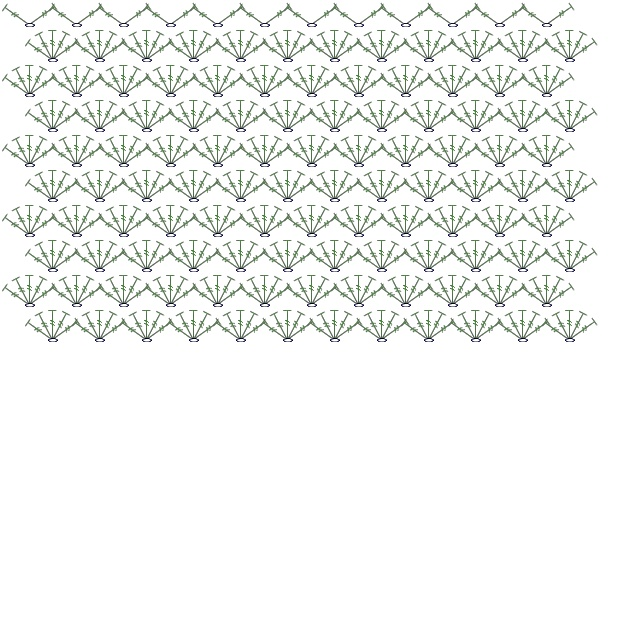chain: (24, 21, 36, 29), (71, 21, 83, 29), (118, 21, 130, 29), (165, 21, 177, 29), (212, 21, 224, 29), (259, 21, 271, 29), (306, 21, 318, 29), (353, 21, 365, 29), (400, 21, 412, 29), (447, 21, 459, 29), (494, 21, 506, 29), (541, 21, 553, 29), (47, 56, 59, 64), (94, 56, 106, 64), (141, 56, 153, 64), (188, 56, 200, 64), (235, 56, 247, 64), (282, 56, 294, 64), (329, 56, 341, 64), (376, 56, 388, 64), (423, 56, 435, 64), (470, 56, 482, 64), (517, 56, 529, 64), (564, 56, 576, 64), (24, 91, 36, 99), (71, 91, 83, 99), (118, 91, 130, 99), (165, 91, 177, 99), (212, 91, 224, 99), (259, 91, 271, 99), (306, 91, 318, 99), (353, 91, 365, 99), (400, 91, 412, 99), (447, 91, 459, 99), (494, 91, 506, 99), (541, 91, 553, 99), (47, 126, 59, 134), (94, 126, 106, 134), (141, 126, 153, 134), (188, 126, 200, 134), (235, 126, 247, 134), (282, 126, 294, 134), (329, 126, 341, 134), (376, 126, 388, 134), (423, 126, 435, 134), (470, 126, 482, 134), (517, 126, 529, 134), (564, 126, 576, 134), (24, 161, 36, 169), (71, 161, 83, 169), (118, 161, 130, 169), (165, 161, 177, 169), (212, 161, 224, 169), (259, 161, 271, 169), (306, 161, 318, 169), (353, 161, 365, 169), (400, 161, 412, 169), (447, 161, 459, 169), (494, 161, 506, 169), (541, 161, 553, 169), (47, 196, 59, 204), (94, 196, 106, 204), (141, 196, 153, 204), (188, 196, 200, 204), (235, 196, 247, 204), (282, 196, 294, 204), (329, 196, 341, 204), (376, 196, 388, 204), (423, 196, 435, 204), (470, 196, 482, 204), (517, 196, 529, 204), (564, 196, 576, 204), (24, 231, 36, 239), (71, 231, 83, 239), (118, 231, 130, 239), (165, 231, 177, 239), (212, 231, 224, 239), (259, 231, 271, 239), (306, 231, 318, 239), (353, 231, 365, 239), (400, 231, 412, 239), (447, 231, 459, 239), (494, 231, 506, 239), (541, 231, 553, 239), (47, 266, 59, 274), (94, 266, 106, 274), (141, 266, 153, 274), (188, 266, 200, 274), (235, 266, 247, 274), (282, 266, 294, 274), (329, 266, 341, 274), (376, 266, 388, 274), (423, 266, 435, 274), (470, 266, 482, 274), (517, 266, 529, 274), (564, 266, 576, 274), (24, 301, 36, 309), (71, 301, 83, 309), (118, 301, 130, 309), (165, 301, 177, 309), (212, 301, 224, 309), (259, 301, 271, 309), (306, 301, 318, 309), (353, 301, 365, 309), (400, 301, 412, 309), (447, 301, 459, 309), (494, 301, 506, 309), (541, 301, 553, 309), (47, 336, 59, 344), (94, 336, 106, 344), (141, 336, 153, 344), (188, 336, 200, 344), (235, 336, 247, 344), (282, 336, 294, 344), (329, 336, 341, 344), (376, 336, 388, 344), (423, 336, 435, 344), (470, 336, 482, 344), (517, 336, 529, 344), (564, 336, 576, 344)
fan: (2, 3, 33, 29), (27, 3, 58, 29), (49, 3, 80, 29), (74, 3, 105, 29), (96, 3, 127, 29), (121, 3, 152, 29), (143, 3, 174, 29), (168, 3, 199, 29), (190, 3, 221, 29), (215, 3, 246, 29), (237, 3, 268, 29), (262, 3, 293, 29), (284, 3, 315, 29), (309, 3, 340, 29), (331, 3, 362, 29), (356, 3, 387, 29), (378, 3, 409, 29), (403, 3, 434, 29), (425, 3, 456, 29), (450, 3, 481, 29), (472, 3, 503, 29), (497, 3, 528, 29), (519, 3, 550, 29), (544, 3, 575, 29), (25, 38, 56, 64), (50, 38, 81, 64), (72, 38, 103, 64), (97, 38, 128, 64), (119, 38, 150, 64), (144, 38, 175, 64), (166, 38, 197, 64), (191, 38, 222, 64), (213, 38, 244, 64), (238, 38, 269, 64), (260, 38, 291, 64), (285, 38, 316, 64), (307, 38, 338, 64), (332, 38, 363, 64), (354, 38, 385, 64), (379, 38, 410, 64), (401, 38, 432, 64), (426, 38, 457, 64), (448, 38, 479, 64), (473, 38, 504, 64), (495, 38, 526, 64), (520, 38, 551, 64), (542, 38, 573, 64), (567, 38, 598, 64), (2, 73, 33, 99), (27, 73, 58, 99), (49, 73, 80, 99), (74, 73, 105, 99), (96, 73, 127, 99), (121, 73, 152, 99), (143, 73, 174, 99), (168, 73, 199, 99), (190, 73, 221, 99), (215, 73, 246, 99), (237, 73, 268, 99), (262, 73, 293, 99), (284, 73, 315, 99), (309, 73, 340, 99), (331, 73, 362, 99), (356, 73, 387, 99), (378, 73, 409, 99), (403, 73, 434, 99), (425, 73, 456, 99), (450, 73, 481, 99), (472, 73, 503, 99), (497, 73, 528, 99), (519, 73, 550, 99), (544, 73, 575, 99), (25, 108, 56, 134), (50, 108, 81, 134), (72, 108, 103, 134), (97, 108, 128, 134), (119, 108, 150, 134), (144, 108, 175, 134), (166, 108, 197, 134), (191, 108, 222, 134), (213, 108, 244, 134), (238, 108, 269, 134), (260, 108, 291, 134), (285, 108, 316, 134), (307, 108, 338, 134), (332, 108, 363, 134), (354, 108, 385, 134), (379, 108, 410, 134), (401, 108, 432, 134), (426, 108, 457, 134), (448, 108, 479, 134), (473, 108, 504, 134), (495, 108, 526, 134), (520, 108, 551, 134), (542, 108, 573, 134), (567, 108, 598, 134), (2, 143, 33, 169), (27, 143, 58, 169), (49, 143, 80, 169), (74, 143, 105, 169), (96, 143, 127, 169), (121, 143, 152, 169), (143, 143, 174, 169), (168, 143, 199, 169), (190, 143, 221, 169), (215, 143, 246, 169), (237, 143, 268, 169), (262, 143, 293, 169), (284, 143, 315, 169), (309, 143, 340, 169), (331, 143, 362, 169), (356, 143, 387, 169), (378, 143, 409, 169), (403, 143, 434, 169), (425, 143, 456, 169), (450, 143, 481, 169), (472, 143, 503, 169), (497, 143, 528, 169), (519, 143, 550, 169), (544, 143, 575, 169), (25, 178, 56, 204), (50, 178, 81, 204), (72, 178, 103, 204), (97, 178, 128, 204), (119, 178, 150, 204), (144, 178, 175, 204), (166, 178, 197, 204), (191, 178, 222, 204), (213, 178, 244, 204), (238, 178, 269, 204), (260, 178, 291, 204), (285, 178, 316, 204), (307, 178, 338, 204), (332, 178, 363, 204), (354, 178, 385, 204), (379, 178, 410, 204), (401, 178, 432, 204), (426, 178, 457, 204), (448, 178, 479, 204), (473, 178, 504, 204), (495, 178, 526, 204), (520, 178, 551, 204), (542, 178, 573, 204), (567, 178, 598, 204), (2, 213, 33, 239), (27, 213, 58, 239), (49, 213, 80, 239), (74, 213, 105, 239), (96, 213, 127, 239), (121, 213, 152, 239), (143, 213, 174, 239), (168, 213, 199, 239), (190, 213, 221, 239), (215, 213, 246, 239), (237, 213, 268, 239), (262, 213, 293, 239), (284, 213, 315, 239), (309, 213, 340, 239), (331, 213, 362, 239), (356, 213, 387, 239), (378, 213, 409, 239), (403, 213, 434, 239), (425, 213, 456, 239), (450, 213, 481, 239), (472, 213, 503, 239), (497, 213, 528, 239), (519, 213, 550, 239), (544, 213, 575, 239), (25, 248, 56, 274), (50, 248, 81, 274), (72, 248, 103, 274), (97, 248, 128, 274), (119, 248, 150, 274), (144, 248, 175, 274), (166, 248, 197, 274), (191, 248, 222, 274), (213, 248, 244, 274), (238, 248, 269, 274), (260, 248, 291, 274), (285, 248, 316, 274), (307, 248, 338, 274), (332, 248, 363, 274), (354, 248, 385, 274), (379, 248, 410, 274), (401, 248, 432, 274), (426, 248, 457, 274), (448, 248, 479, 274), (473, 248, 504, 274), (495, 248, 526, 274), (520, 248, 551, 274), (542, 248, 573, 274), (567, 248, 598, 274), (2, 283, 33, 309), (27, 283, 58, 309), (49, 283, 80, 309), (74, 283, 105, 309), (96, 283, 127, 309), (121, 283, 152, 309), (143, 283, 174, 309), (168, 283, 199, 309), (190, 283, 221, 309), (215, 283, 246, 309), (237, 283, 268, 309), (262, 283, 293, 309), (284, 283, 315, 309), (309, 283, 340, 309), (331, 283, 362, 309), (356, 283, 387, 309), (378, 283, 409, 309), (403, 283, 434, 309), (425, 283, 456, 309), (450, 283, 481, 309), (472, 283, 503, 309), (497, 283, 528, 309), (519, 283, 550, 309), (544, 283, 575, 309), (25, 318, 56, 344), (50, 318, 81, 344), (72, 318, 103, 344), (97, 318, 128, 344), (119, 318, 150, 344), (144, 318, 175, 344), (166, 318, 197, 344), (191, 318, 222, 344), (213, 318, 244, 344), (238, 318, 269, 344), (260, 318, 291, 344), (285, 318, 316, 344), (307, 318, 338, 344), (332, 318, 363, 344), (354, 318, 385, 344), (379, 318, 410, 344), (401, 318, 432, 344), (426, 318, 457, 344), (448, 318, 479, 344), (473, 318, 504, 344), (495, 318, 526, 344), (520, 318, 551, 344), (542, 318, 573, 344), (567, 318, 598, 344), (34, 30, 58, 63), (48, 30, 72, 63), (81, 30, 105, 63), (95, 30, 119, 63), (128, 30, 152, 63), (142, 30, 166, 63), (175, 30, 199, 63), (189, 30, 213, 63), (222, 30, 246, 63), (236, 30, 260, 63), (269, 30, 293, 63), (283, 30, 307, 63), (316, 30, 340, 63), (330, 30, 354, 63), (363, 30, 387, 63), (377, 30, 401, 63), (410, 30, 434, 63), (424, 30, 448, 63), (457, 30, 481, 63), (471, 30, 495, 63), (504, 30, 528, 63), (518, 30, 542, 63), (551, 30, 575, 63), (565, 30, 589, 63), (11, 65, 35, 98), (25, 65, 49, 98), (58, 65, 82, 98), (72, 65, 96, 98), (105, 65, 129, 98), (119, 65, 143, 98), (152, 65, 176, 98), (166, 65, 190, 98), (199, 65, 223, 98), (213, 65, 237, 98), (246, 65, 270, 98), (260, 65, 284, 98), (293, 65, 317, 98), (307, 65, 331, 98), (340, 65, 364, 98), (354, 65, 378, 98), (387, 65, 411, 98), (401, 65, 425, 98), (434, 65, 458, 98), (448, 65, 472, 98), (481, 65, 505, 98), (495, 65, 519, 98), (528, 65, 552, 98), (542, 65, 566, 98), (34, 100, 58, 133), (48, 100, 72, 133), (81, 100, 105, 133), (95, 100, 119, 133), (128, 100, 152, 133), (142, 100, 166, 133), (175, 100, 199, 133), (189, 100, 213, 133), (222, 100, 246, 133), (236, 100, 260, 133), (269, 100, 293, 133), (283, 100, 307, 133), (316, 100, 340, 133), (330, 100, 354, 133), (363, 100, 387, 133), (377, 100, 401, 133), (410, 100, 434, 133), (424, 100, 448, 133), (457, 100, 481, 133), (471, 100, 495, 133), (504, 100, 528, 133), (518, 100, 542, 133), (551, 100, 575, 133), (565, 100, 589, 133), (11, 135, 35, 168), (25, 135, 49, 168), (58, 135, 82, 168), (72, 135, 96, 168), (105, 135, 129, 168), (119, 135, 143, 168), (152, 135, 176, 168), (166, 135, 190, 168), (199, 135, 223, 168), (213, 135, 237, 168), (246, 135, 270, 168), (260, 135, 284, 168), (293, 135, 317, 168), (307, 135, 331, 168), (340, 135, 364, 168), (354, 135, 378, 168), (387, 135, 411, 168), (401, 135, 425, 168), (434, 135, 458, 168), (448, 135, 472, 168), (481, 135, 505, 168), (495, 135, 519, 168), (528, 135, 552, 168), (542, 135, 566, 168), (34, 170, 58, 203), (48, 170, 72, 203), (81, 170, 105, 203), (95, 170, 119, 203), (128, 170, 152, 203), (142, 170, 166, 203), (175, 170, 199, 203), (189, 170, 213, 203), (222, 170, 246, 203), (236, 170, 260, 203), (269, 170, 293, 203), (283, 170, 307, 203), (316, 170, 340, 203), (330, 170, 354, 203), (363, 170, 387, 203), (377, 170, 401, 203), (410, 170, 434, 203), (424, 170, 448, 203), (457, 170, 481, 203), (471, 170, 495, 203), (504, 170, 528, 203), (518, 170, 542, 203), (551, 170, 575, 203), (565, 170, 589, 203), (11, 205, 35, 238), (25, 205, 49, 238), (58, 205, 82, 238), (72, 205, 96, 238), (105, 205, 129, 238), (119, 205, 143, 238), (152, 205, 176, 238), (166, 205, 190, 238), (199, 205, 223, 238), (213, 205, 237, 238), (246, 205, 270, 238), (260, 205, 284, 238), (293, 205, 317, 238), (307, 205, 331, 238), (340, 205, 364, 238), (354, 205, 378, 238), (387, 205, 411, 238), (401, 205, 425, 238), (434, 205, 458, 238), (448, 205, 472, 238), (481, 205, 505, 238), (495, 205, 519, 238), (528, 205, 552, 238), (542, 205, 566, 238), (34, 240, 58, 273), (48, 240, 72, 273), (81, 240, 105, 273), (95, 240, 119, 273), (128, 240, 152, 273), (142, 240, 166, 273), (175, 240, 199, 273), (189, 240, 213, 273), (222, 240, 246, 273), (236, 240, 260, 273), (269, 240, 293, 273), (283, 240, 307, 273), (316, 240, 340, 273), (330, 240, 354, 273), (363, 240, 387, 273), (377, 240, 401, 273), (410, 240, 434, 273), (424, 240, 448, 273), (457, 240, 481, 273), (471, 240, 495, 273), (504, 240, 528, 273), (518, 240, 542, 273), (551, 240, 575, 273), (565, 240, 589, 273), (11, 275, 35, 308), (25, 275, 49, 308), (58, 275, 82, 308), (72, 275, 96, 308), (105, 275, 129, 308), (119, 275, 143, 308), (152, 275, 176, 308), (166, 275, 190, 308), (199, 275, 223, 308), (213, 275, 237, 308), (246, 275, 270, 308), (260, 275, 284, 308), (293, 275, 317, 308), (307, 275, 331, 308), (340, 275, 364, 308), (354, 275, 378, 308), (387, 275, 411, 308), (401, 275, 425, 308), (434, 275, 458, 308), (448, 275, 472, 308), (481, 275, 505, 308), (495, 275, 519, 308), (528, 275, 552, 308), (542, 275, 566, 308), (34, 310, 58, 343), (48, 310, 72, 343), (81, 310, 105, 343), (95, 310, 119, 343), (128, 310, 152, 343), (142, 310, 166, 343), (175, 310, 199, 343), (189, 310, 213, 343), (222, 310, 246, 343), (236, 310, 260, 343), (269, 310, 293, 343), (283, 310, 307, 343), (316, 310, 340, 343), (330, 310, 354, 343), (363, 310, 387, 343), (377, 310, 401, 343), (410, 310, 434, 343), (424, 310, 448, 343), (457, 310, 481, 343), (471, 310, 495, 343), (504, 310, 528, 343), (518, 310, 542, 343), (551, 310, 575, 343), (565, 310, 589, 343), (94, 29, 106, 60), (188, 29, 200, 60), (282, 29, 294, 60), (376, 29, 388, 60), (470, 29, 482, 60), (564, 29, 576, 60), (24, 64, 36, 95), (118, 64, 130, 95), (212, 64, 224, 95), (306, 64, 318, 95), (400, 64, 412, 95), (494, 64, 506, 95), (94, 99, 106, 130), (188, 99, 200, 130), (282, 99, 294, 130), (376, 99, 388, 130), (470, 99, 482, 130), (564, 99, 576, 130), (24, 134, 36, 165), (118, 134, 130, 165), (212, 134, 224, 165), (306, 134, 318, 165), (400, 134, 412, 165), (494, 134, 506, 165), (94, 169, 106, 200), (188, 169, 200, 200), (282, 169, 294, 200), (376, 169, 388, 200), (470, 169, 482, 200), (564, 169, 576, 200), (24, 204, 36, 235), (118, 204, 130, 235), (212, 204, 224, 235), (306, 204, 318, 235), (400, 204, 412, 235), (494, 204, 506, 235), (94, 239, 106, 270), (188, 239, 200, 270), (282, 239, 294, 270), (376, 239, 388, 270), (470, 239, 482, 270), (564, 239, 576, 270), (24, 274, 36, 305), (118, 274, 130, 305), (212, 274, 224, 305), (306, 274, 318, 305), (400, 274, 412, 305), (494, 274, 506, 305), (94, 309, 106, 340), (188, 309, 200, 340), (282, 309, 294, 340), (376, 309, 388, 340), (470, 309, 482, 340), (564, 309, 576, 340), (48, 29, 58, 60), (142, 29, 152, 60), (236, 29, 246, 60), (330, 29, 340, 60), (424, 29, 434, 60), (518, 29, 528, 60), (72, 64, 82, 95), (166, 64, 176, 95), (260, 64, 270, 95), (354, 64, 364, 95), (448, 64, 458, 95), (542, 64, 552, 95), (48, 99, 58, 130), (142, 99, 152, 130), (236, 99, 246, 130), (330, 99, 340, 130), (424, 99, 434, 130), (518, 99, 528, 130), (72, 134, 82, 165), (166, 134, 176, 165), (260, 134, 270, 165), (354, 134, 364, 165), (448, 134, 458, 165), (542, 134, 552, 165), (48, 169, 58, 200), (142, 169, 152, 200), (236, 169, 246, 200), (330, 169, 340, 200), (424, 169, 434, 200), (518, 169, 528, 200), (72, 204, 82, 235), (166, 204, 176, 235), (260, 204, 270, 235), (354, 204, 364, 235), (448, 204, 458, 235), (542, 204, 552, 235), (48, 239, 58, 270), (142, 239, 152, 270), (236, 239, 246, 270), (330, 239, 340, 270), (424, 239, 434, 270), (518, 239, 528, 270), (72, 274, 82, 305), (166, 274, 176, 305), (260, 274, 270, 305), (354, 274, 364, 305), (448, 274, 458, 305), (542, 274, 552, 305), (48, 309, 58, 340), (142, 309, 152, 340), (236, 309, 246, 340), (330, 309, 340, 340), (424, 309, 434, 340), (518, 309, 528, 340)
